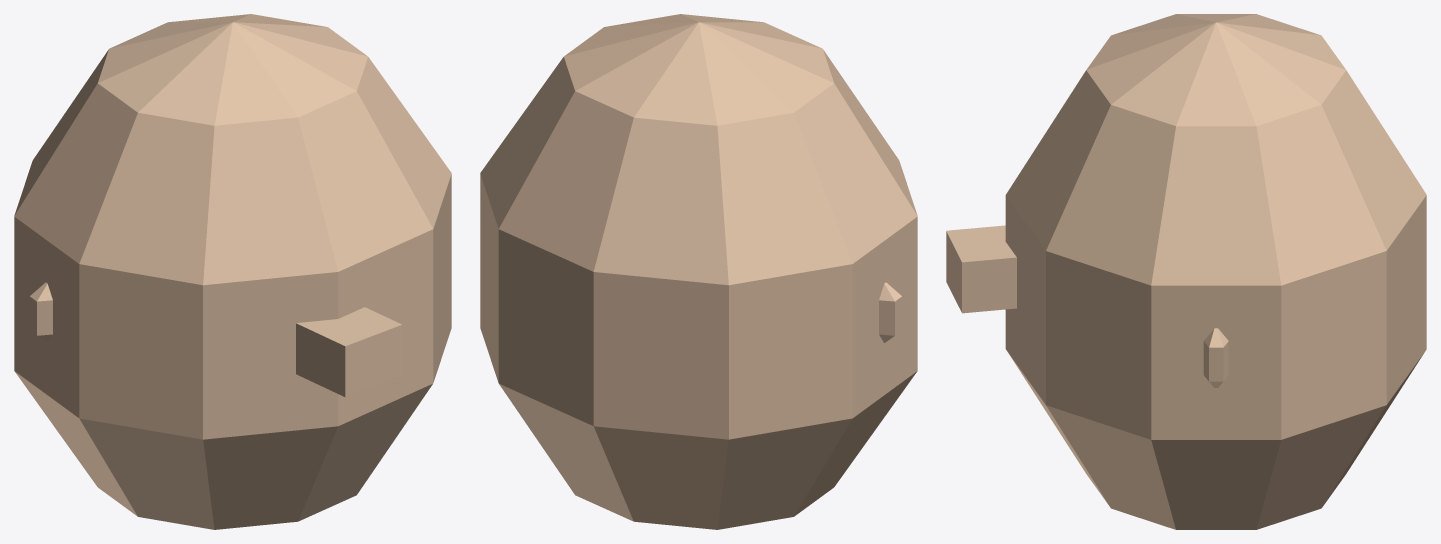
File: npc_head_03.glb
The picture shows the model from 3 angles, left to right: view 1: azimuth 30°, elevation 25°; view 2: azimuth 150°, elevation 25°; view 3: azimuth 270°, elevation 25°; orthographic projection.
Visible parts, largest first — view 1: npc_head_03; view 2: npc_head_03; view 3: npc_head_03.
Part boxes in pixels (x1=…): npc_head_03: x1=14, y1=14, x2=451, y2=529; npc_head_03: x1=480, y1=14, x2=917, y2=529; npc_head_03: x1=946, y1=14, x2=1426, y2=529.
Bounding box in the file's own units: 0.4505 × 0.5386 × 0.47.
